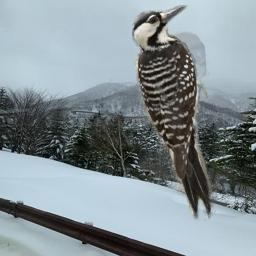Woodpecker: (132, 5, 215, 221)
